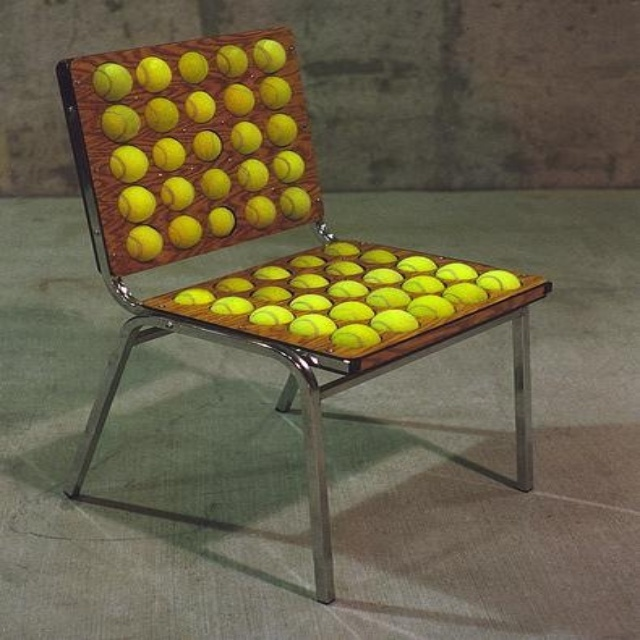obstacle: (57, 27, 551, 602)
